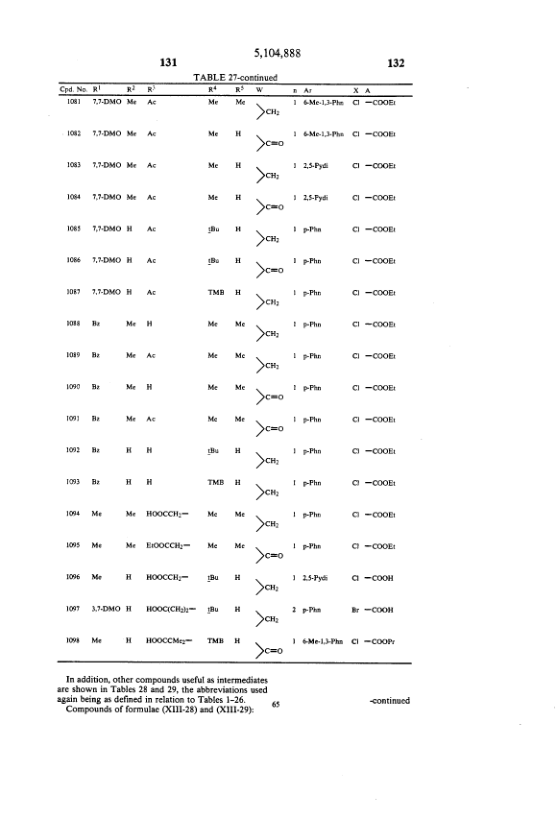compound-structure: (345, 440, 406, 461), (250, 483, 288, 508), (254, 130, 288, 155), (345, 319, 397, 335), (257, 417, 286, 445), (349, 220, 396, 237), (353, 381, 400, 398), (251, 99, 282, 124), (254, 450, 288, 472), (257, 544, 286, 569), (256, 200, 286, 224), (252, 228, 282, 251), (251, 291, 282, 313), (351, 350, 399, 364), (252, 608, 281, 631), (254, 167, 280, 192), (251, 262, 285, 281), (254, 639, 288, 658), (350, 161, 403, 173), (350, 542, 403, 554), (254, 322, 278, 348), (354, 191, 398, 205), (254, 389, 283, 410), (354, 98, 399, 111), (351, 130, 396, 143), (351, 510, 401, 521), (251, 577, 277, 598), (255, 515, 280, 536), (352, 478, 399, 489), (350, 413, 401, 422), (256, 359, 278, 379), (351, 256, 398, 265), (348, 289, 400, 297), (350, 607, 398, 615), (347, 639, 397, 646), (350, 576, 394, 581)
